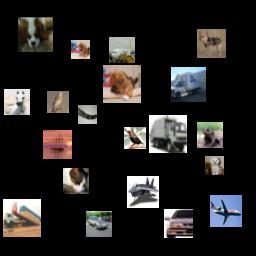airplane: (210, 195, 242, 227), (127, 176, 159, 208), (109, 37, 135, 63)
automobile: (164, 209, 193, 238), (86, 211, 112, 237)
bird: (47, 91, 69, 113), (124, 127, 146, 149)
cat: (63, 168, 89, 194), (78, 105, 97, 124)
dog: (103, 65, 141, 103), (18, 17, 53, 52), (197, 29, 226, 58), (71, 40, 90, 59), (205, 156, 224, 175)
frog: (197, 122, 223, 148)
ship: (43, 130, 72, 159)
truck: (149, 115, 187, 153), (3, 199, 41, 237), (171, 67, 206, 102)
